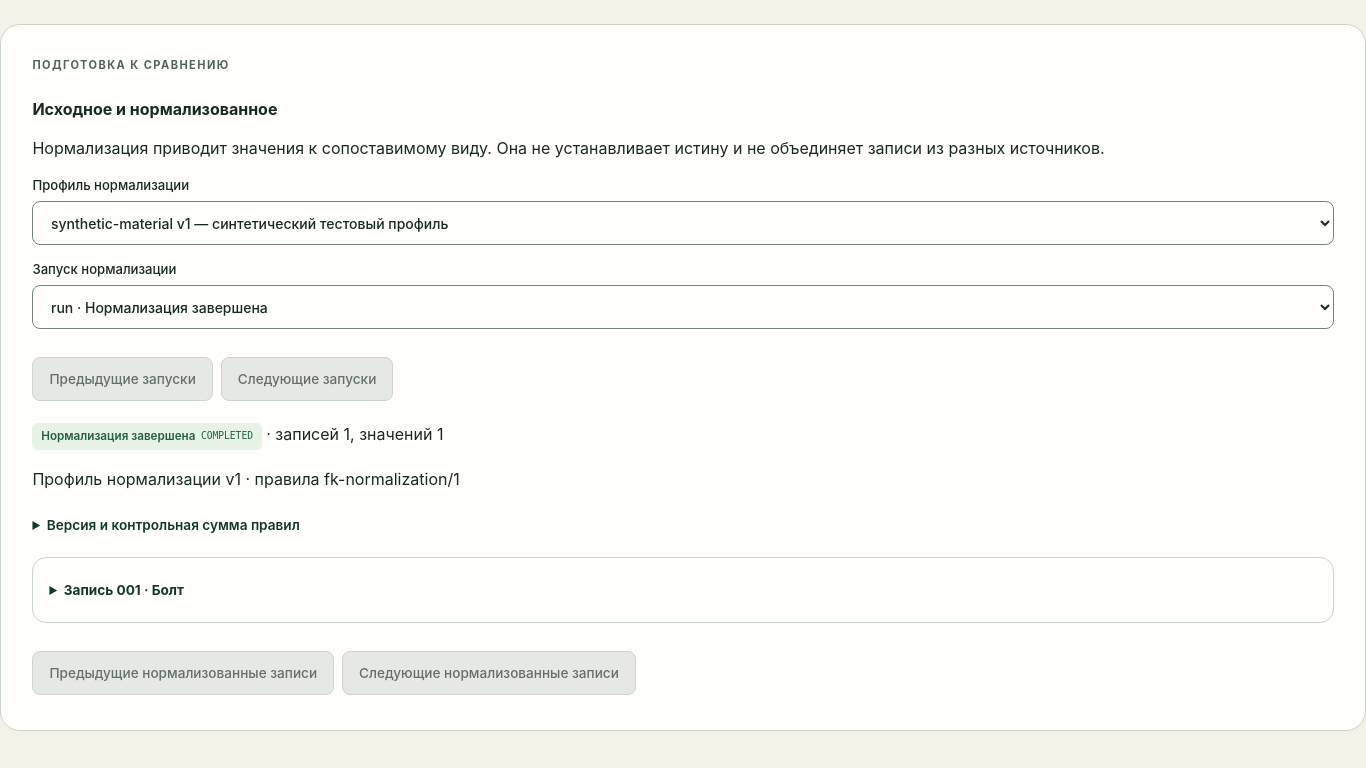
Test: shows source, raw, normalized, unit, quality and exact rule without offering a viewer mutation
This screenshot has width=1366, height=768.
Expected: the message "Нормализация завершена COMPLETED · записей 1, значений 1" is shown, [32,423,443,450]
Step 1. Click the heading "Запись 001 · Болт" → (124, 590), box [64,582,184,598]
(page scrolled)
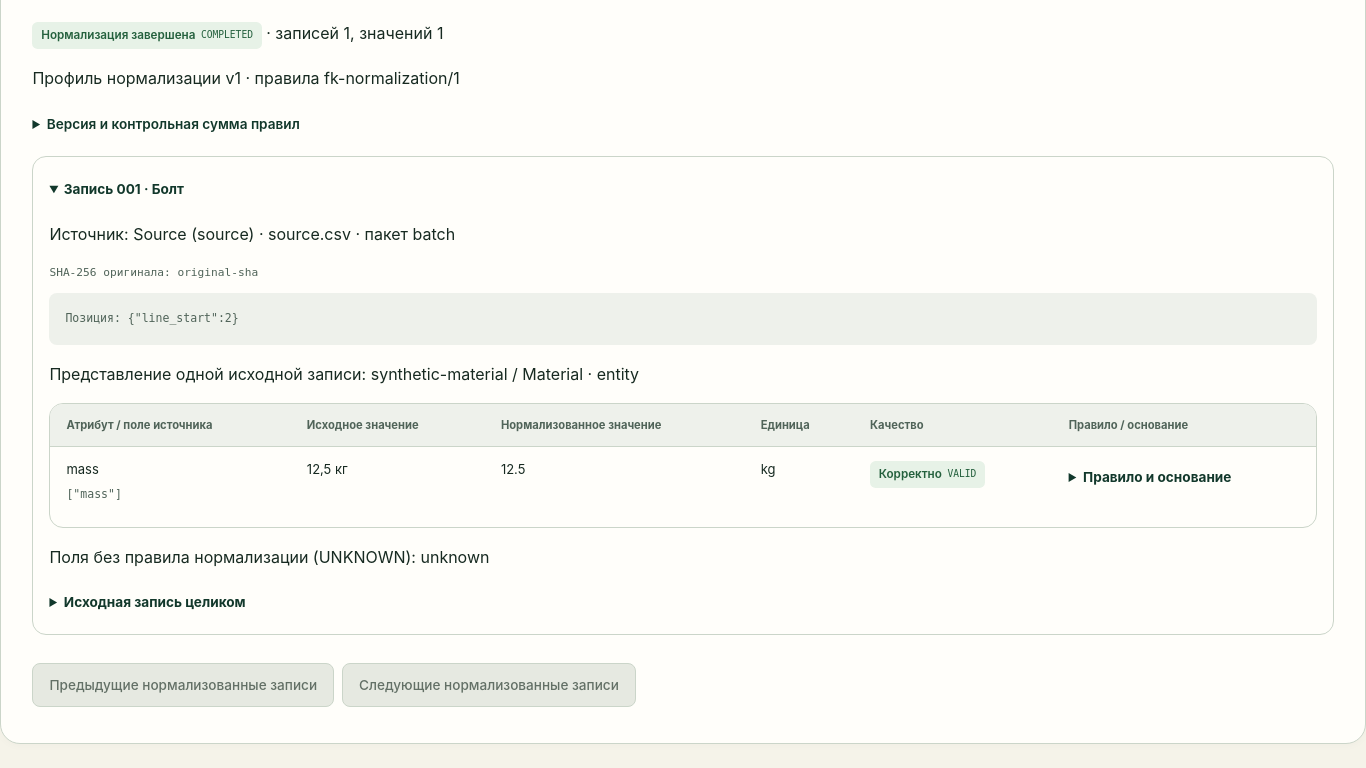
Now the column heading "Атрибут / поле источника" is shown, box [50,404,291,447]
Now the text "12,5 кг" is shown, box [307,461,348,477]
Now the text "12.5" is shown, box [501,461,525,477]
